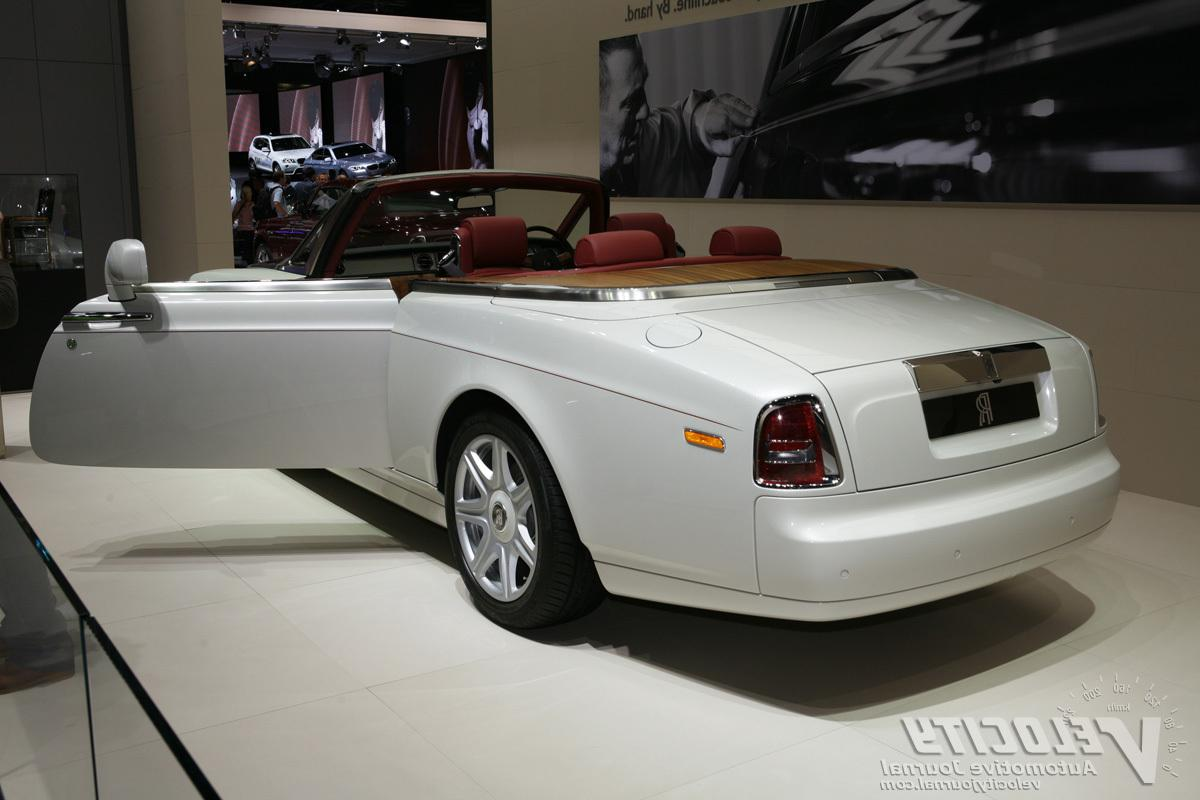Car: (2, 141, 1163, 692)
